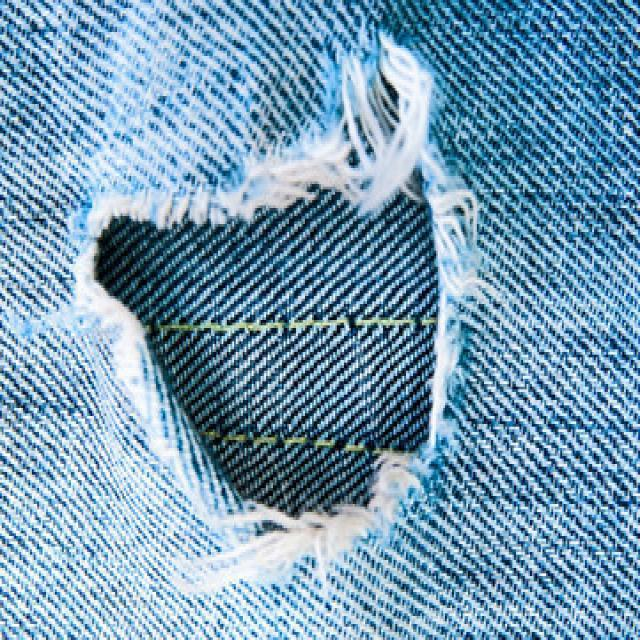Hole: (75, 33, 479, 594)
